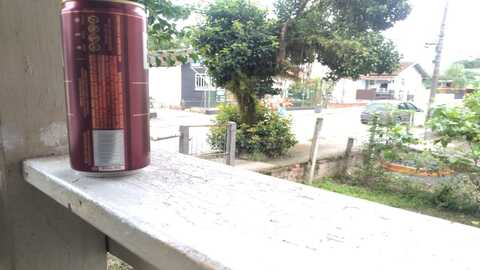duplo_malte: (60, 1, 154, 183)
